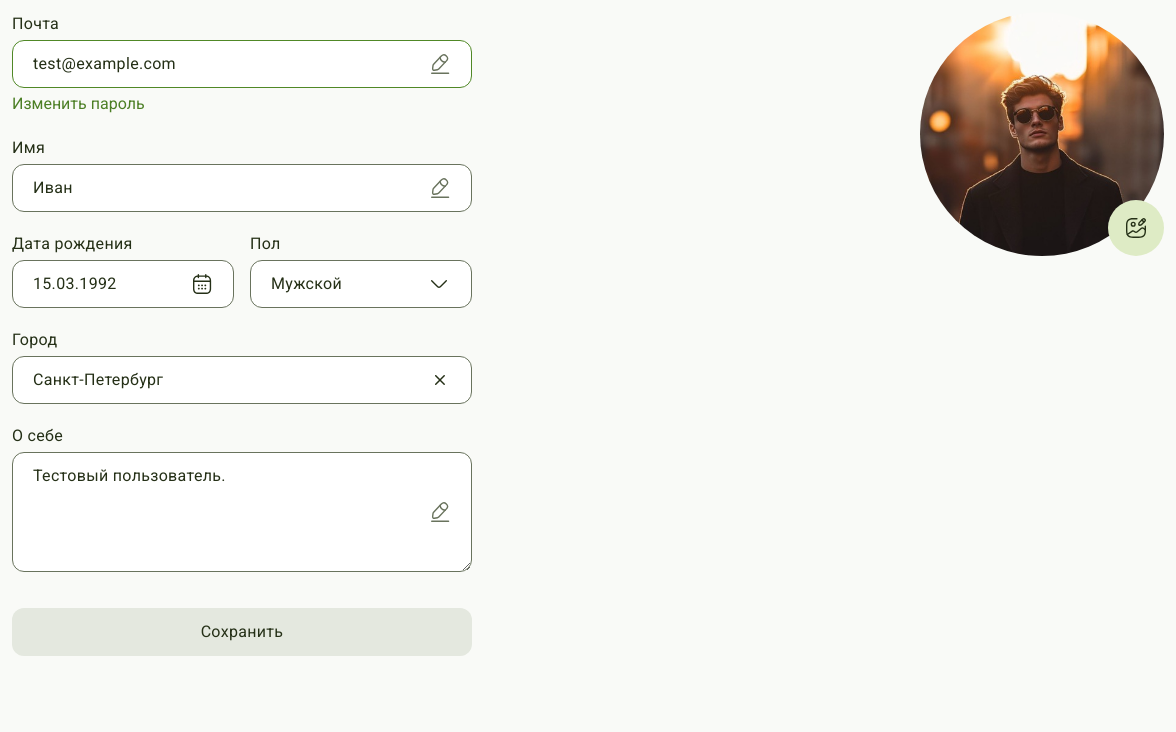
Test: ProfilePersonal: редактирование и сохранение › объясняет ошибку email после ухода с поля и снимает её при исправлении
Replace the text in the field labelled "Почта" with "bad" at (242, 64), box [12,40,472,88]
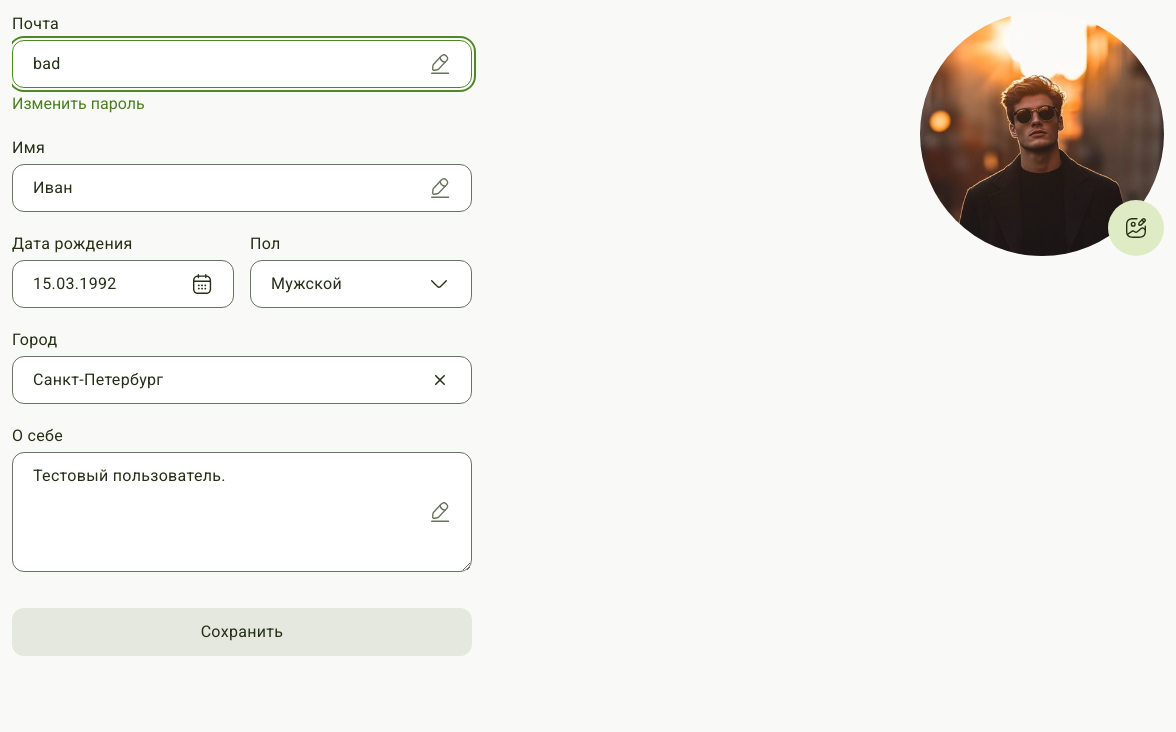
Press Tab
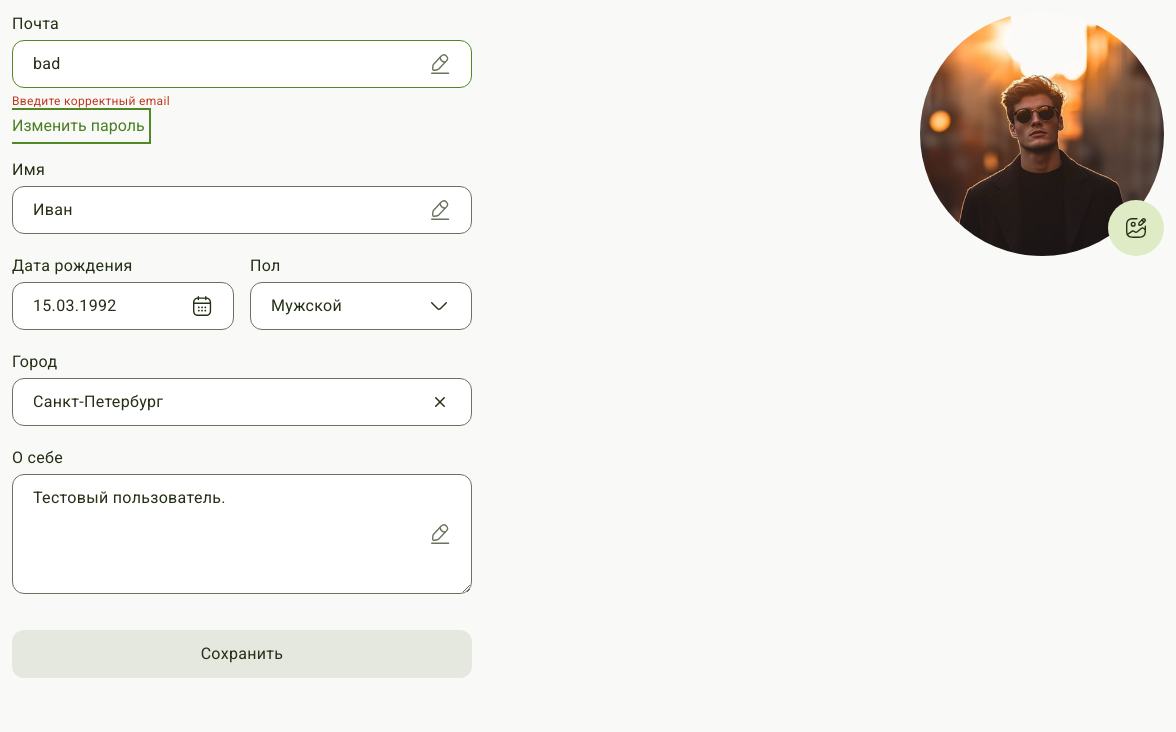
Expected: the button "Сохранить" is disabled, [12,630,472,678]
Expected: the text "Введите корректный email" is shown, [12,94,170,108]
Replace the text in the field labelled "Почта" with "new@example.com" at (242, 64), box [12,40,472,88]
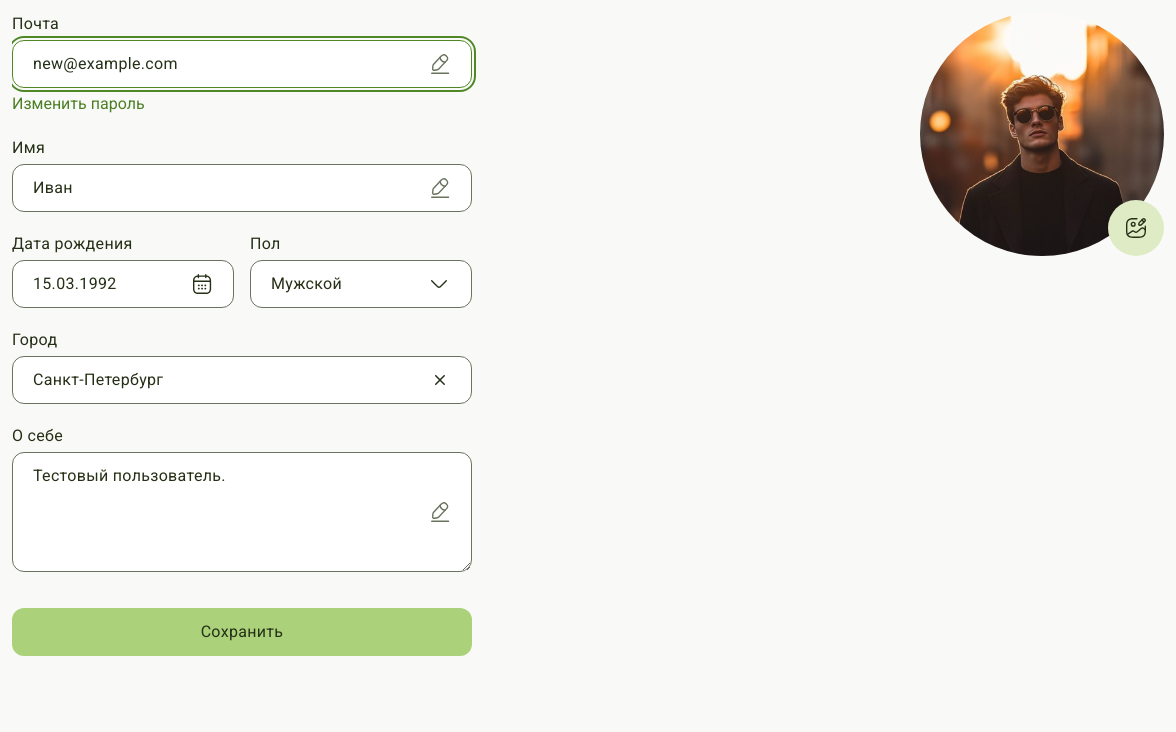
Expected: the text "Введите корректный email" is not shown
Expected: the button "Сохранить" is enabled, [12,608,472,656]
